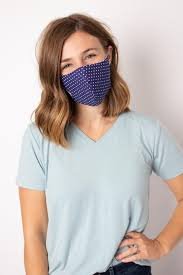with-mask: (40, 12, 121, 120)
